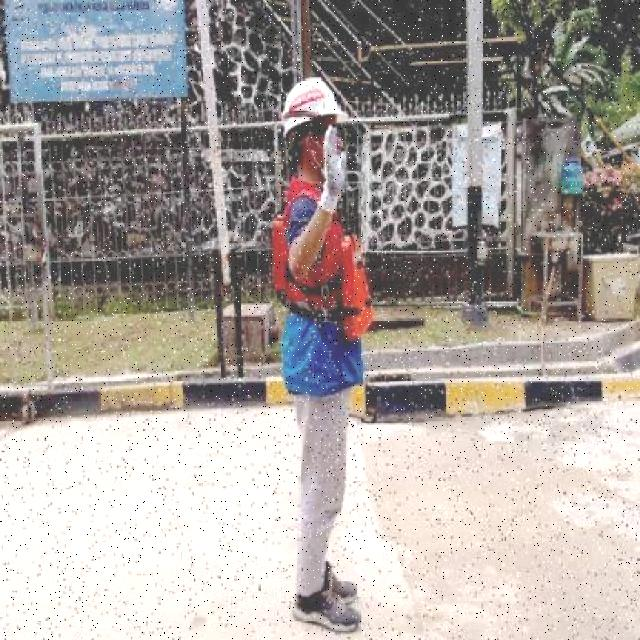Boots: (290, 582, 366, 633), (321, 556, 357, 606)
Gloves: (316, 128, 352, 208)
Helmet: (278, 75, 349, 131)
Mask: (270, 212, 379, 336)
